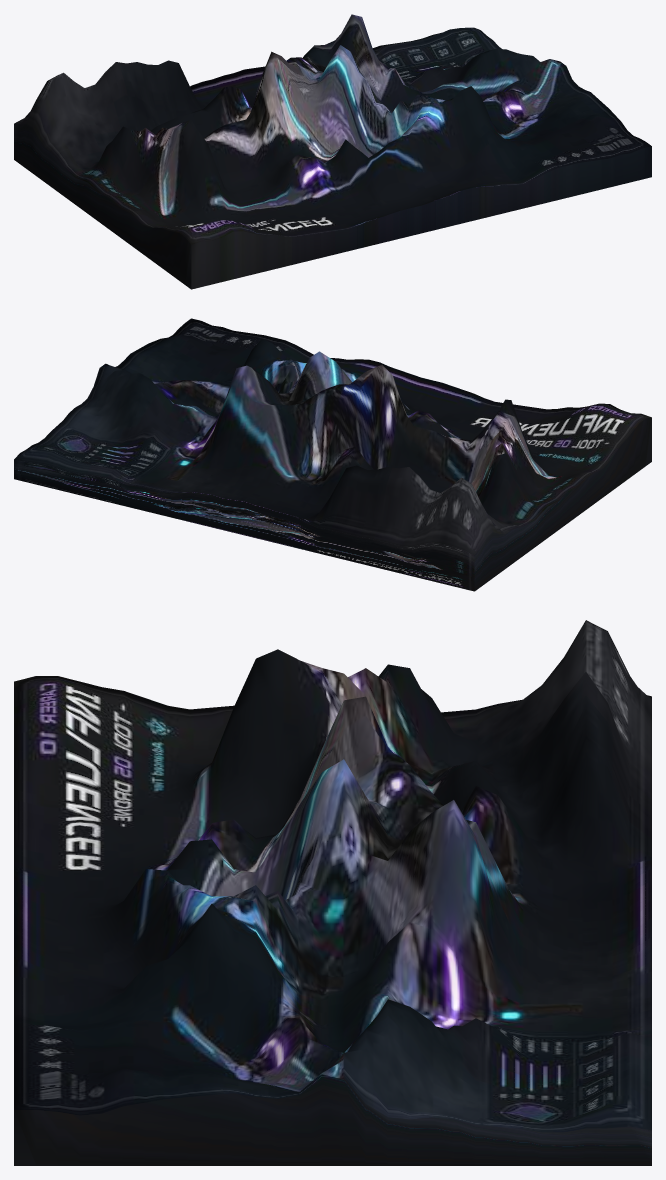
File: CAREER_10_Tool_05_Drone.glb
3 renders of one model, top to bottom at view 1: azimuth 30°, elevation 25°; view 2: azimuth 150°, elevation 25°; view 3: azimuth 270°, elevation 25°, orthographic. The views are drawn at different scales.
Visible parts, largest first — view 1: CAREER_10_Tool_05_Drone; view 2: CAREER_10_Tool_05_Drone; view 3: CAREER_10_Tool_05_Drone.
Part boxes in pixels (bbox=[...]): CAREER_10_Tool_05_Drone: bbox=[14, 14, 651, 289]; CAREER_10_Tool_05_Drone: bbox=[14, 318, 651, 591]; CAREER_10_Tool_05_Drone: bbox=[14, 620, 651, 1165].
Bounding box in the file's own units: 2 × 0.51 × 1.33.
Materials: 1 (1 with a texture image).
